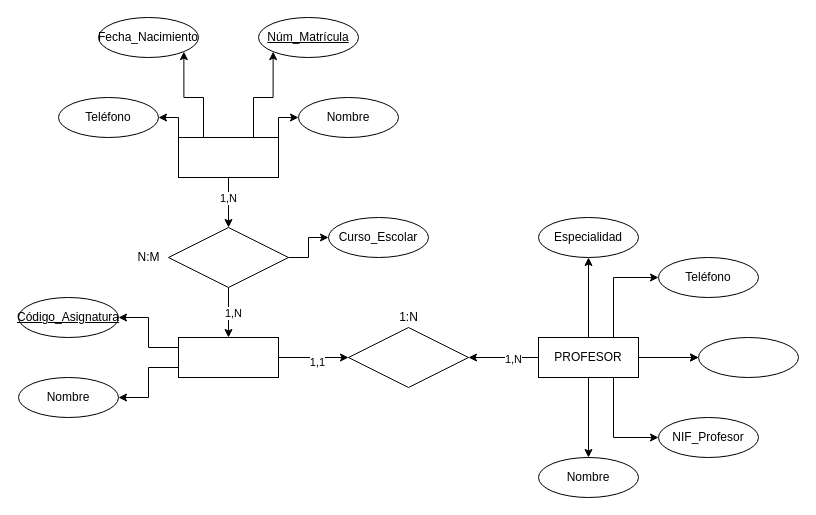
Image size: 816x515. Some labels were removed from this diagram. Here are the shapes that lost their labels. From the top down, the box of each, then its label:
(178, 136, 278, 178): ALUMNO
(168, 226, 288, 288): Inscribe
(178, 336, 278, 378): ASIGNATURA
(348, 326, 468, 388): Imparte
(698, 336, 798, 378): ID_Profesor
